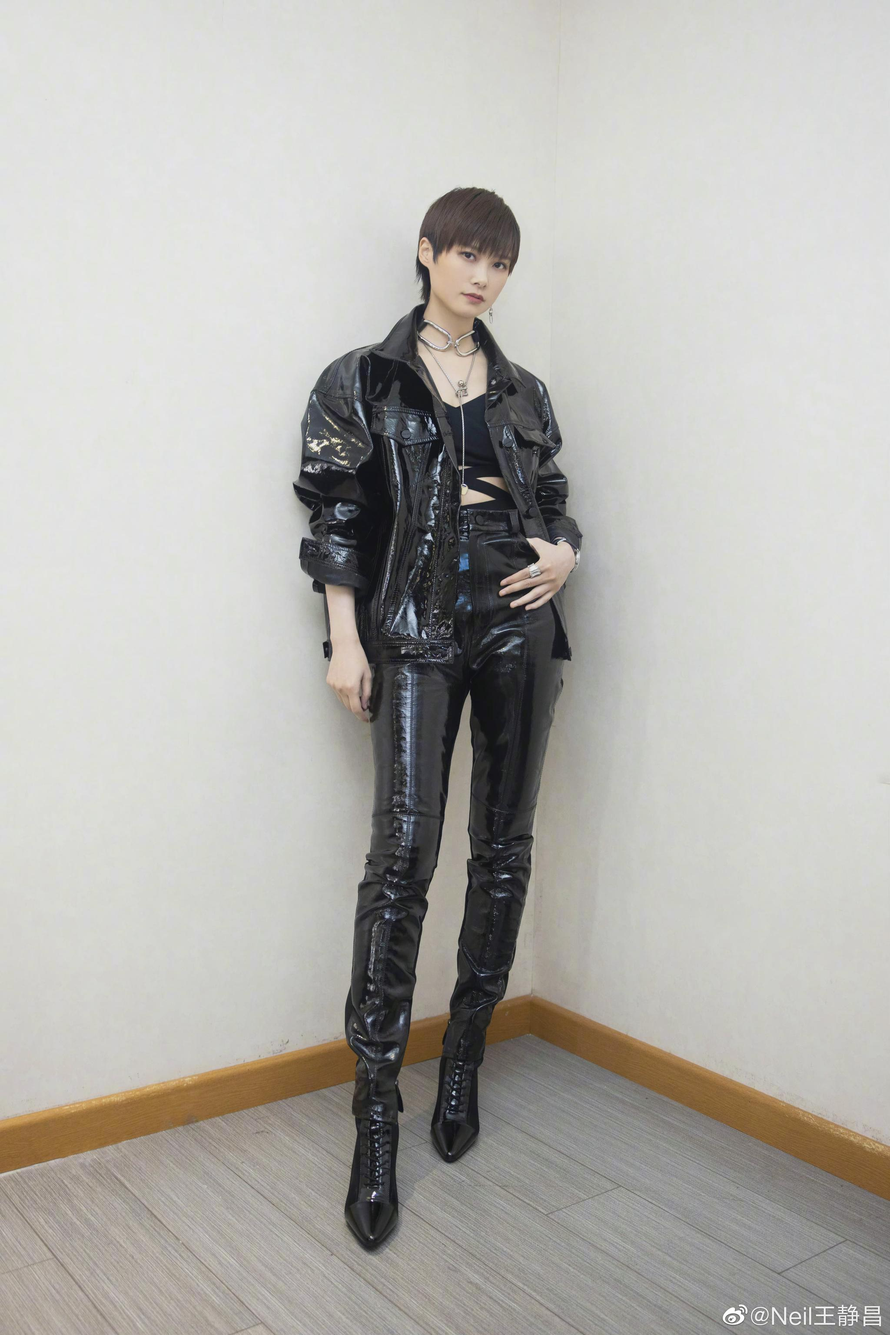up: (258, 157, 617, 1273)
